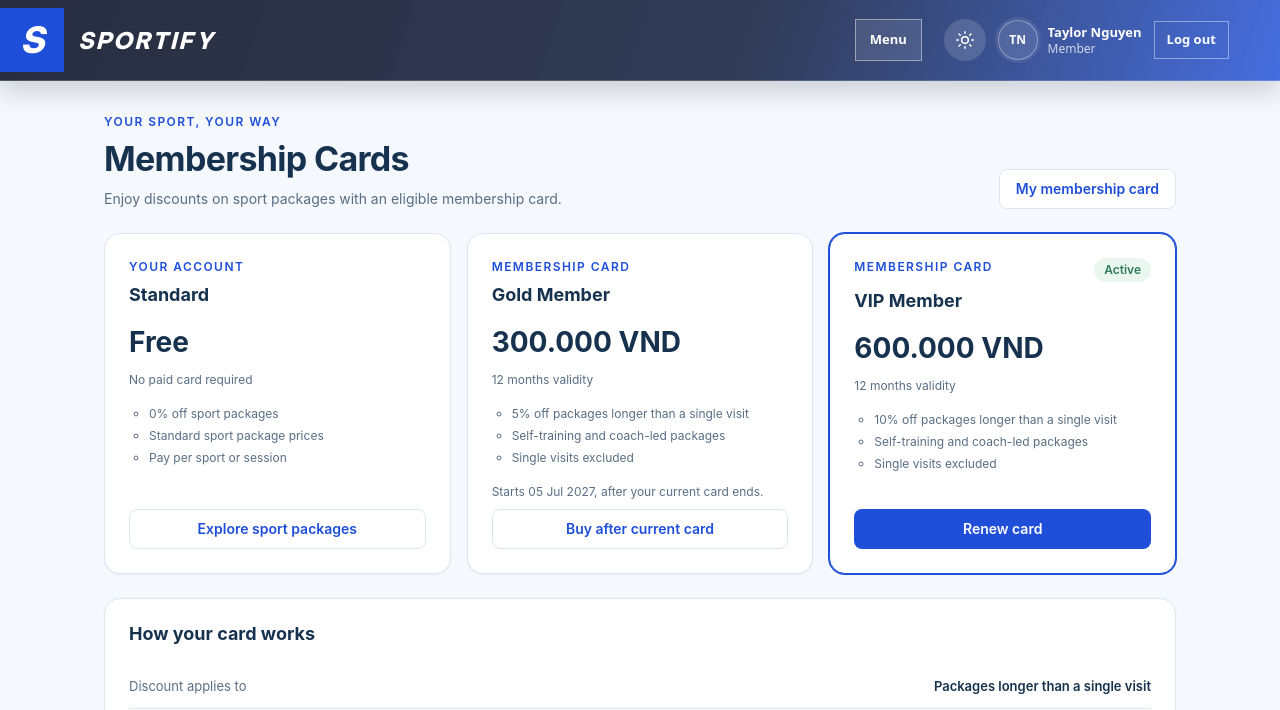
it: FE-04 Membership Cards (F1-11) › TC-FE04-035 confirm sends POST /membership-cards/purchase and opens the payment summary
The image size is (1280, 710).
Expected: the list named "Membership card tiers" is shown, [104, 233, 1176, 574]
What coordinates should you click on to do the following:
click the button "Renew card"
I would click on:
 (1003, 529)
Its box is [854, 509, 1151, 549].
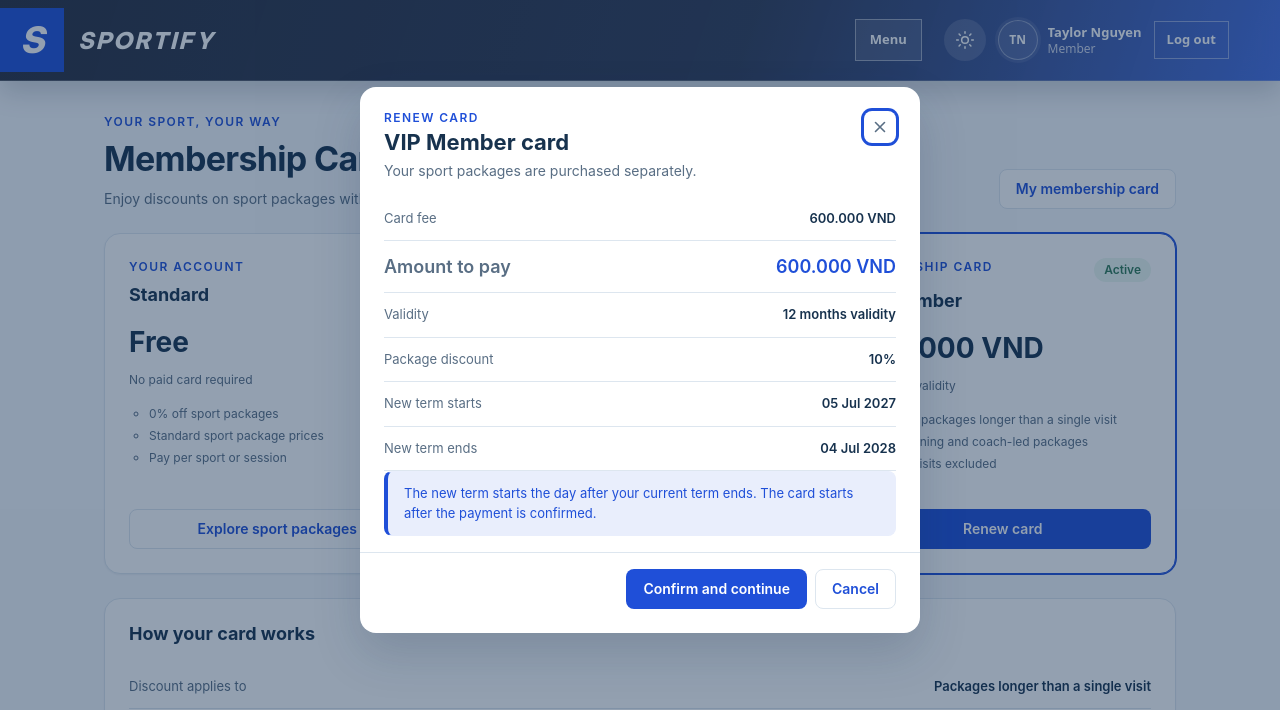
What coordinates should you click on to do the following:
click the button "Confirm and continue"
I would click on:
 (717, 589)
Its box is [626, 569, 807, 609].
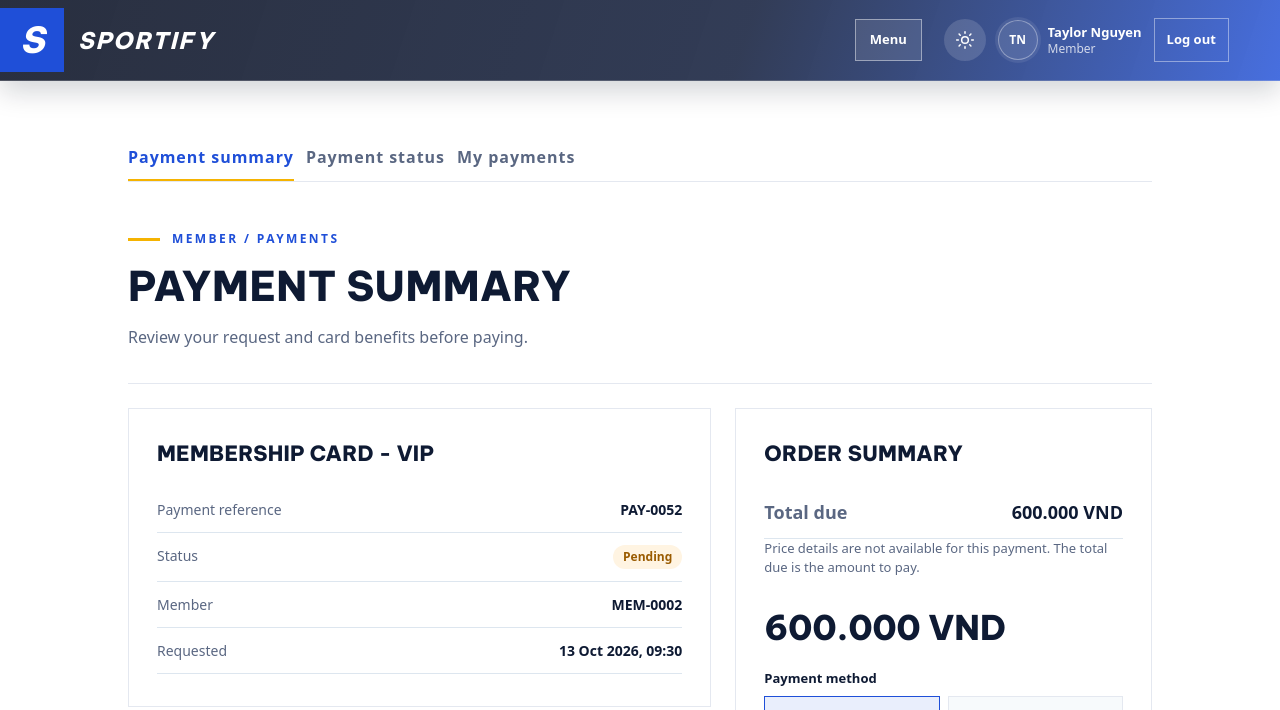
Now the text with test id "payment-amount" reads "600.000 VND", box [764, 606, 1006, 649]
Now the heading "Payment Summary" is shown, box [128, 260, 571, 312]
